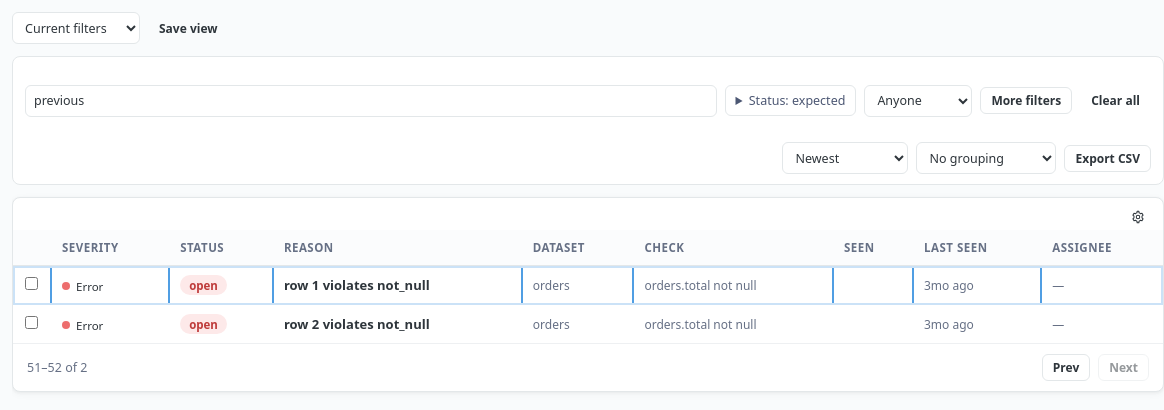
Scenario: Compact exception filters (#326) › clears a pending search draft without reintroducing it after the debounce
Check: the checkbox named "Select exception 1" is shown, box [25,277,38,290]
Replace the text in the search field named "Search exceptions" with "pending draft" at {"x": 371, "y": 100}, box [25,84,716,116]
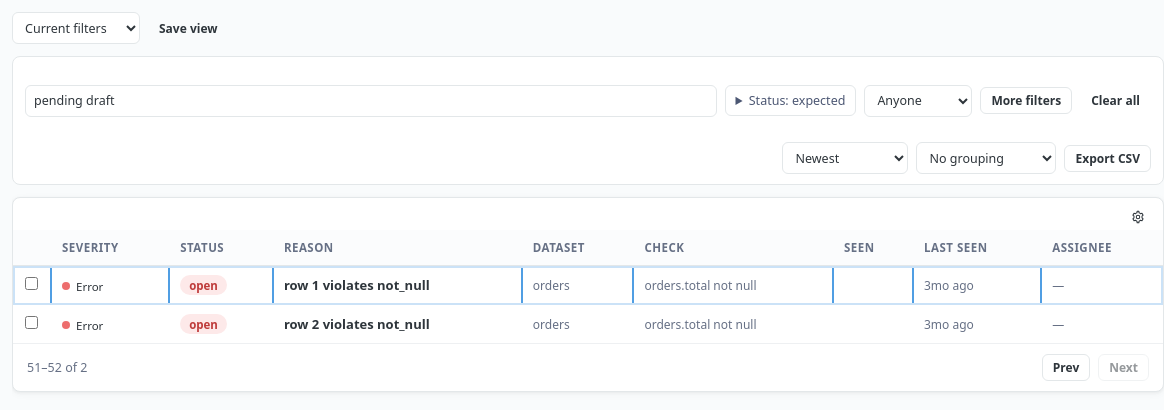
Click the button "Clear all" at {"x": 1116, "y": 100}, box [1080,87,1151,114]
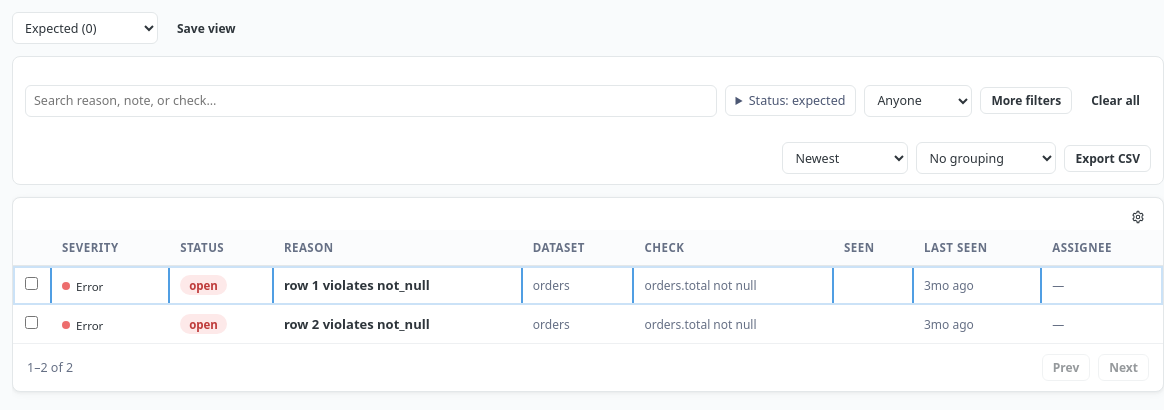
Check: the search field named "Search exceptions" is empty, box [25,84,716,116]
